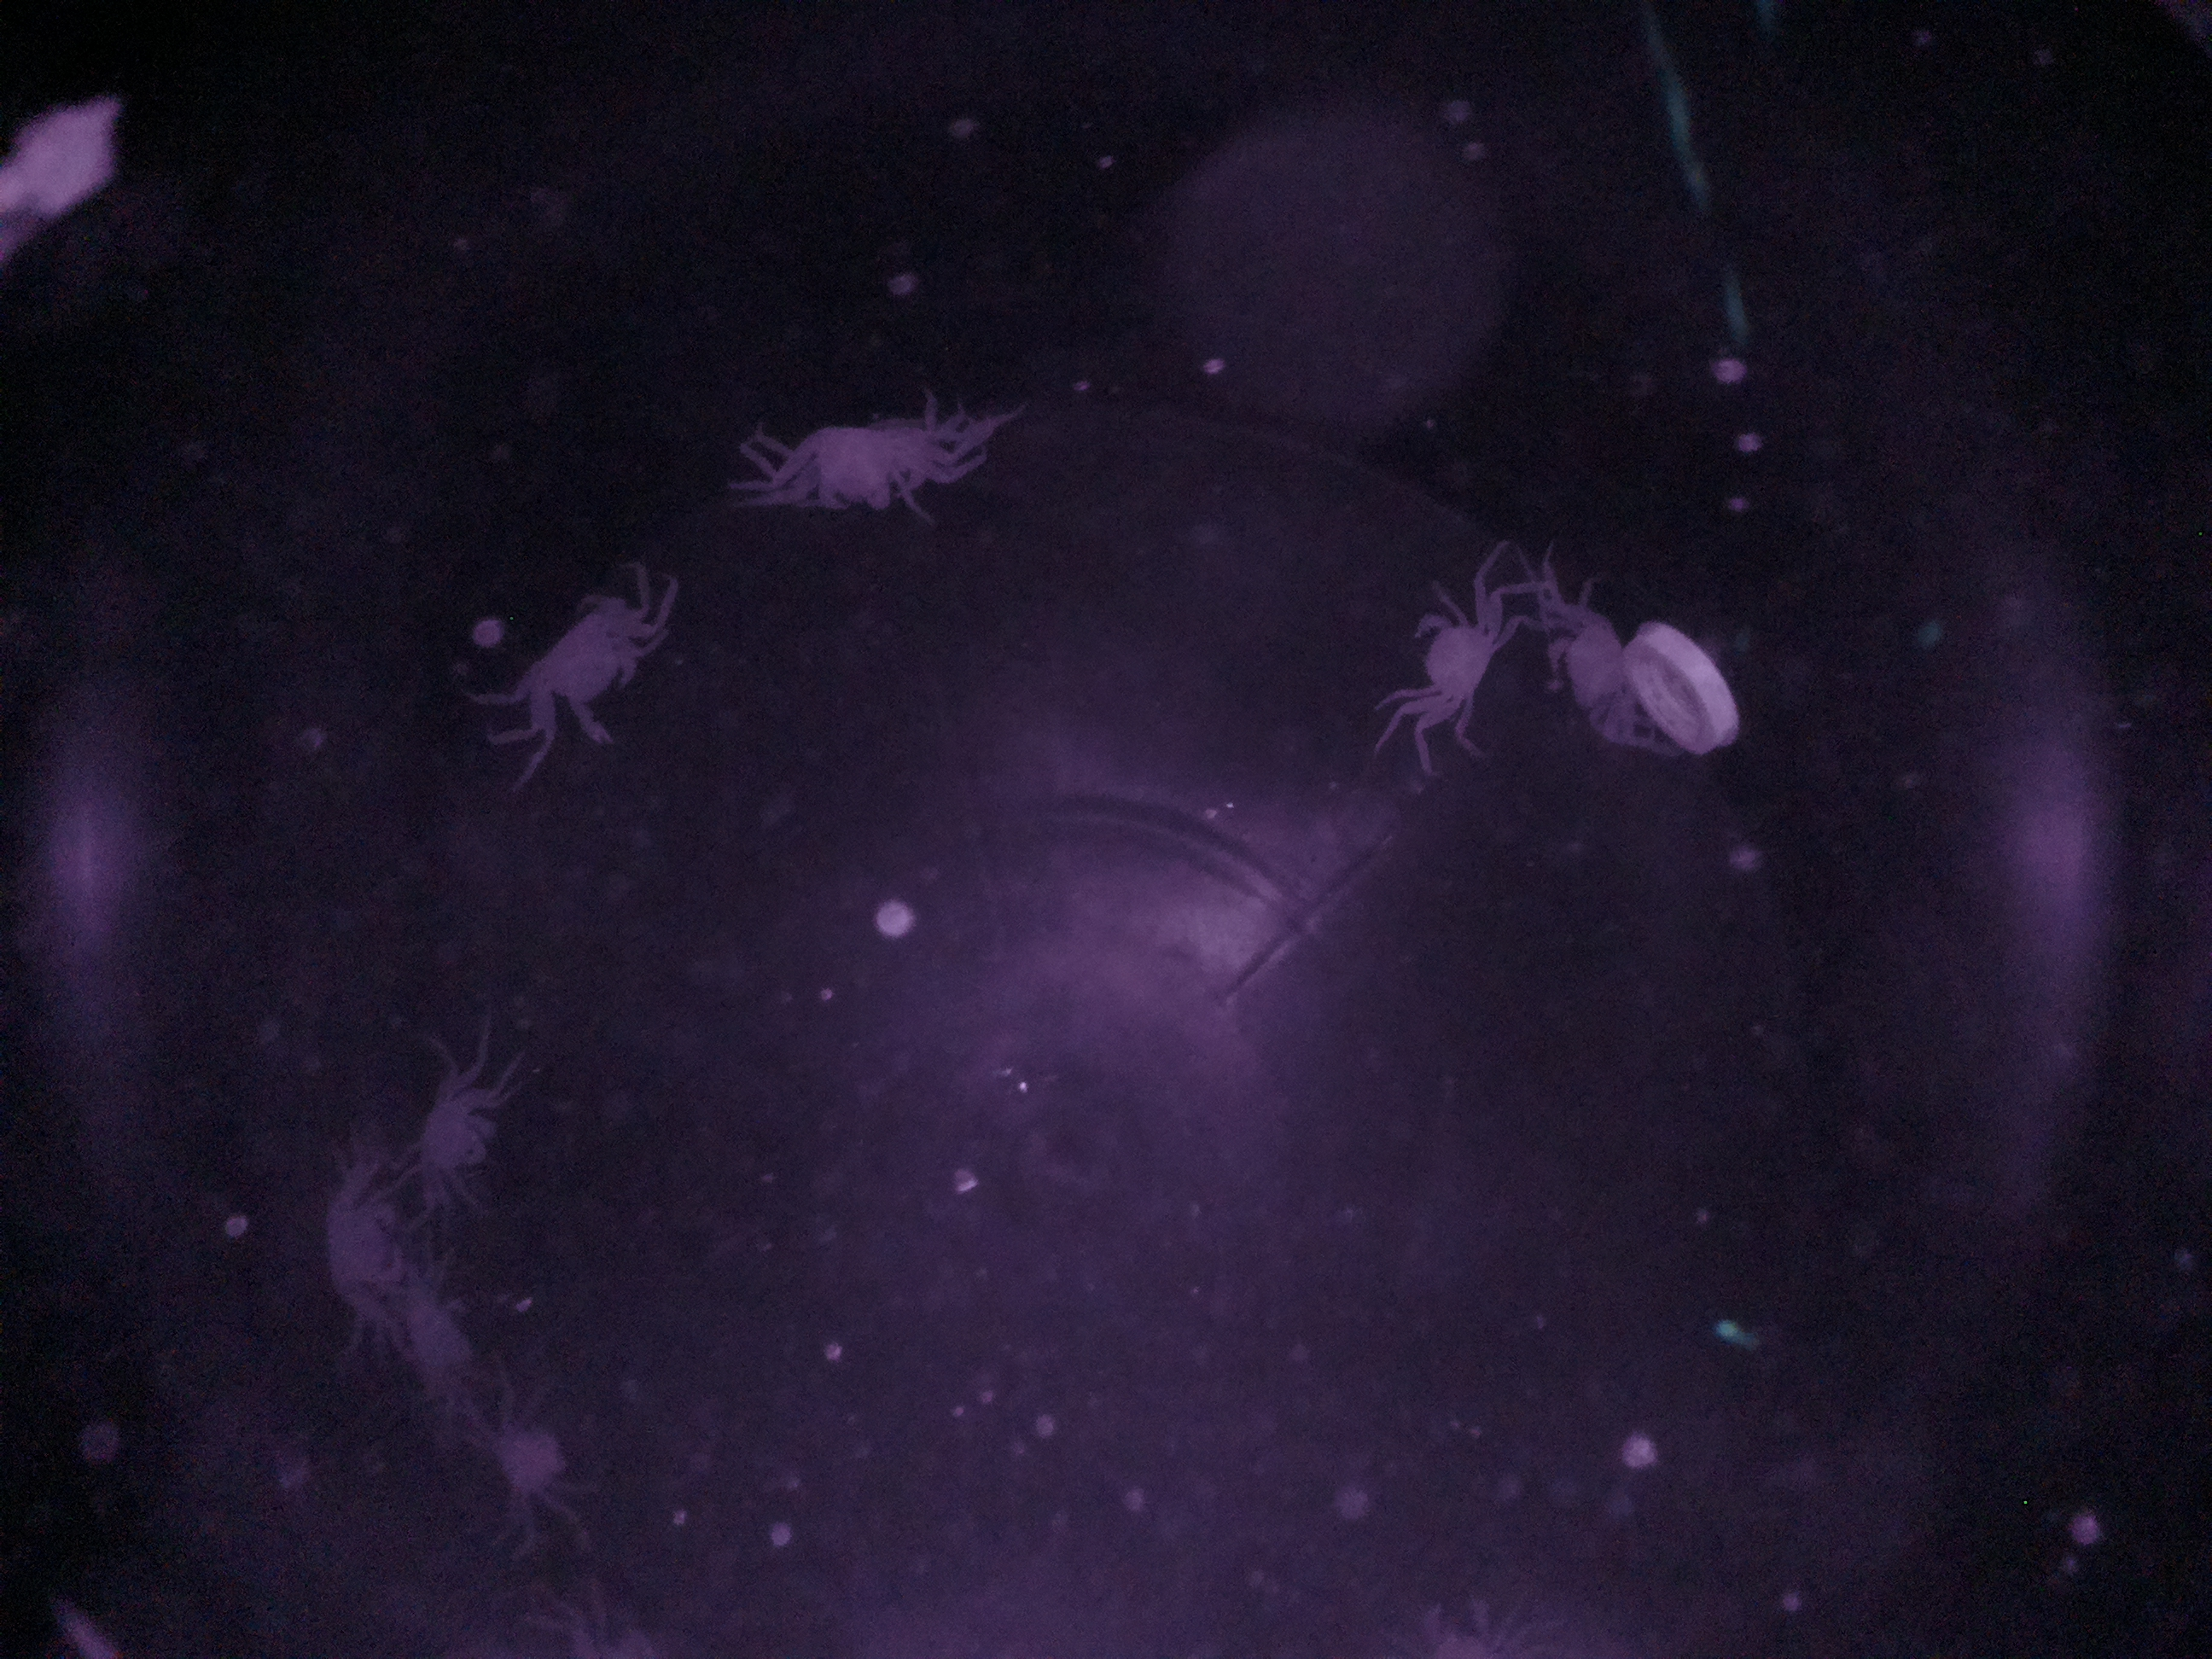Crab: (502, 566, 674, 763), (1381, 582, 1534, 755), (303, 1148, 418, 1330)
